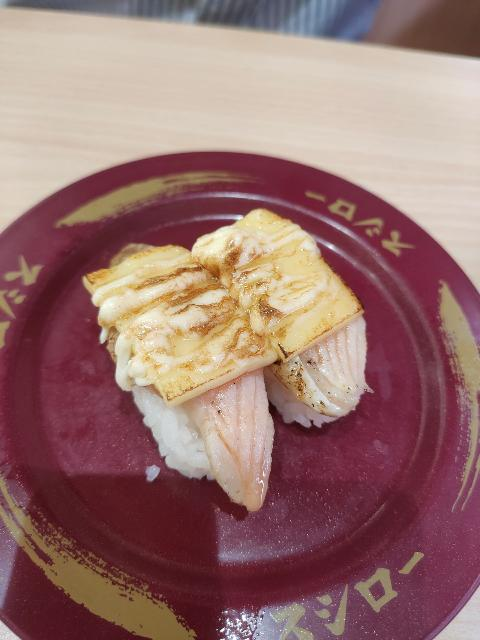janred: (0, 142, 480, 640)
